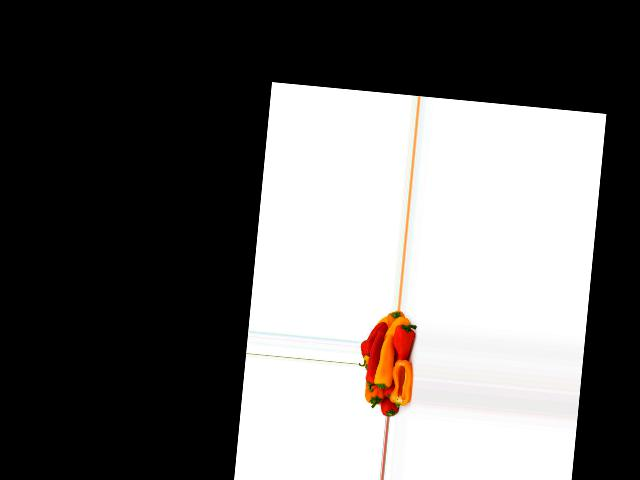bell_pepper: (376, 385, 400, 417)
